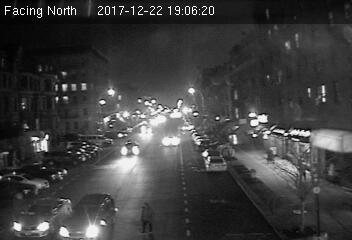car: (55, 192, 116, 239), (9, 195, 72, 237), (206, 155, 226, 172), (120, 141, 141, 156), (160, 135, 181, 146)
